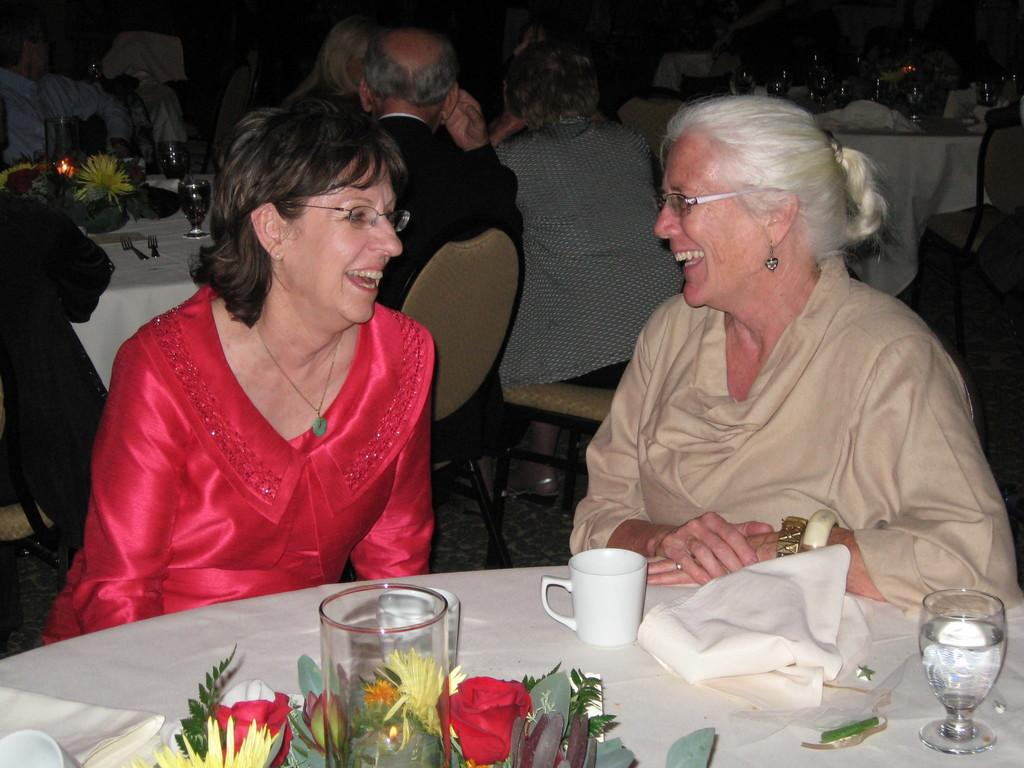Chair: (398, 224, 525, 570), (911, 106, 1023, 358)
